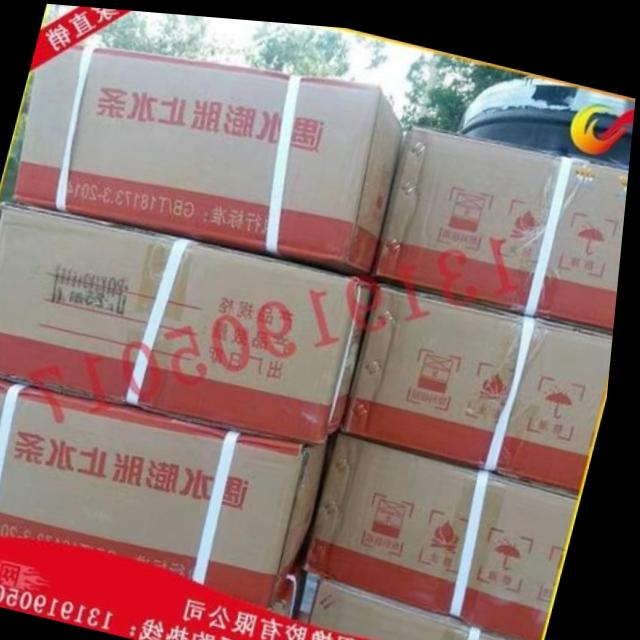box: (0, 203, 377, 444), (17, 44, 410, 267), (0, 379, 342, 602), (315, 427, 588, 640), (349, 279, 618, 490), (379, 116, 631, 326), (320, 572, 542, 640), (283, 567, 316, 617)
